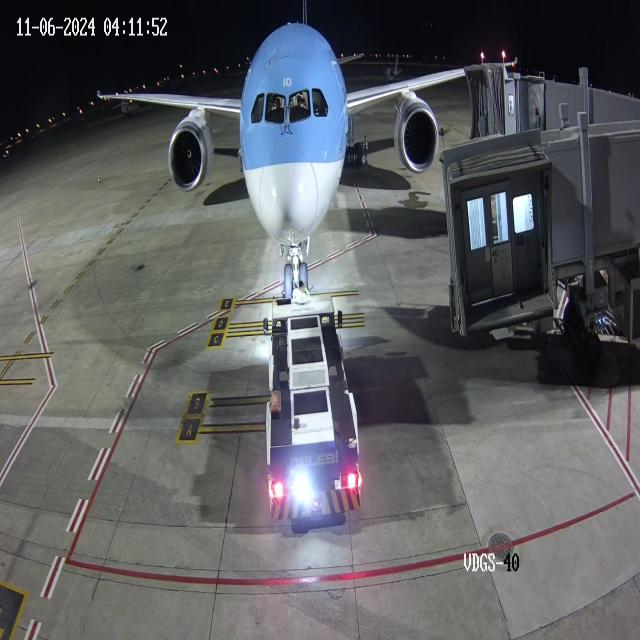bridge: (488, 52, 546, 146)
plane: (92, 9, 440, 297)
window: (245, 82, 335, 130)
